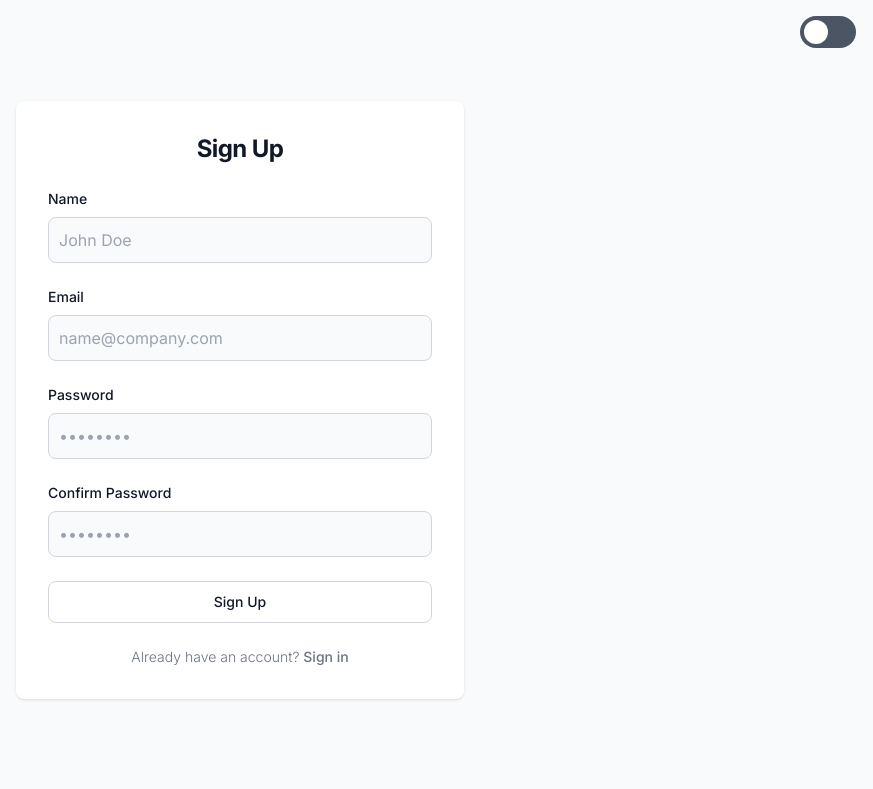
Test: Sign Up › should show error for missing email
The image size is (873, 789).
Type "Nikhil Magar" into the field named "name".
click(240, 240); type("Nikhil Magar")  # box top-left (48, 217), bottom-right (432, 263)
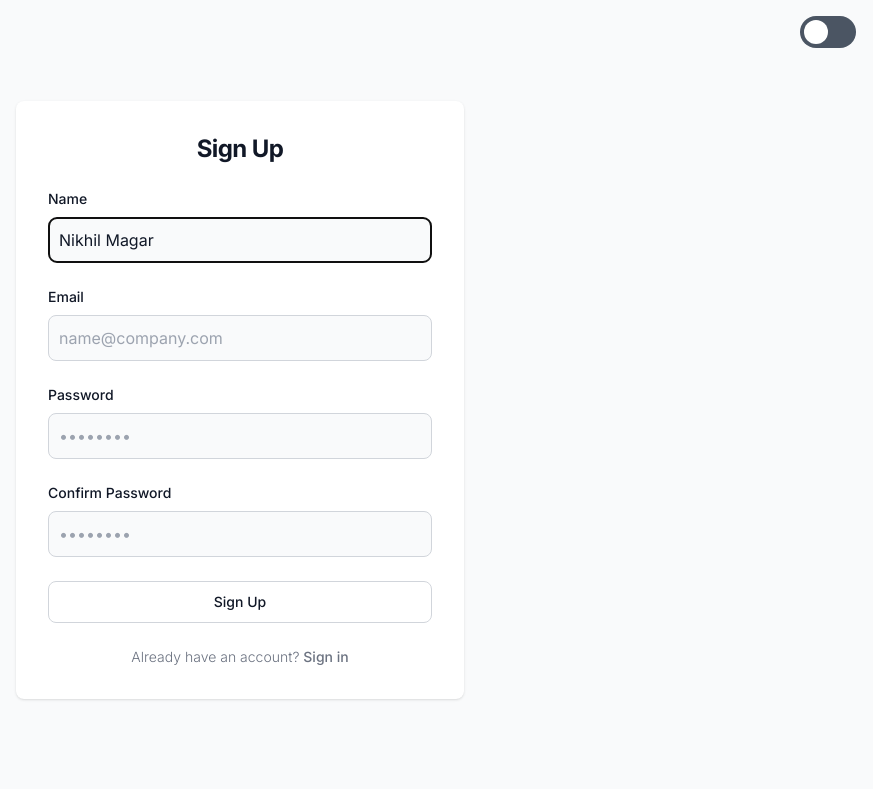
Type "Password123" into the password field named "password".
click(240, 436); type("Password123")  # box top-left (48, 413), bottom-right (432, 459)
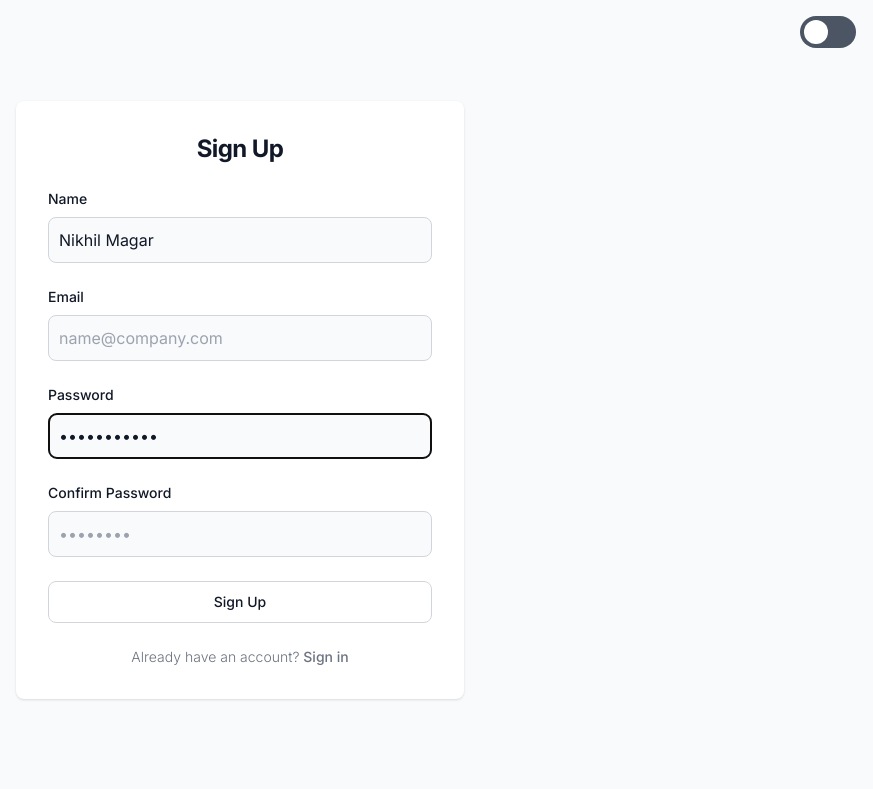
Type "Password123" into the password field named "confirm-password".
click(240, 534); type("Password123")  # box top-left (48, 511), bottom-right (432, 557)
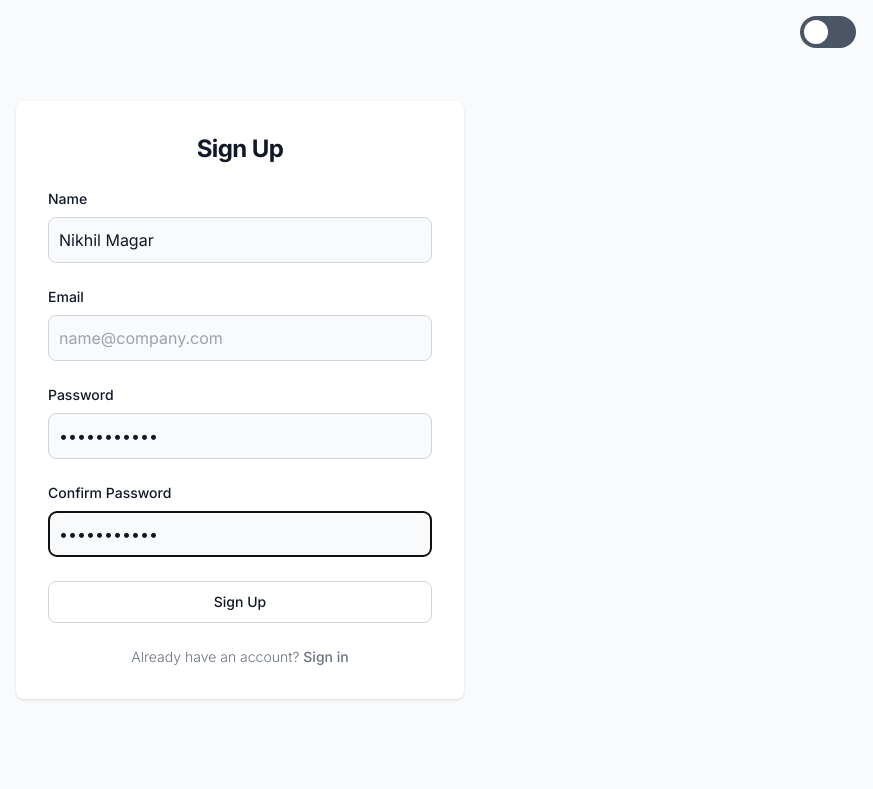
Click the submit button.
click(240, 602)  # box top-left (48, 581), bottom-right (432, 623)
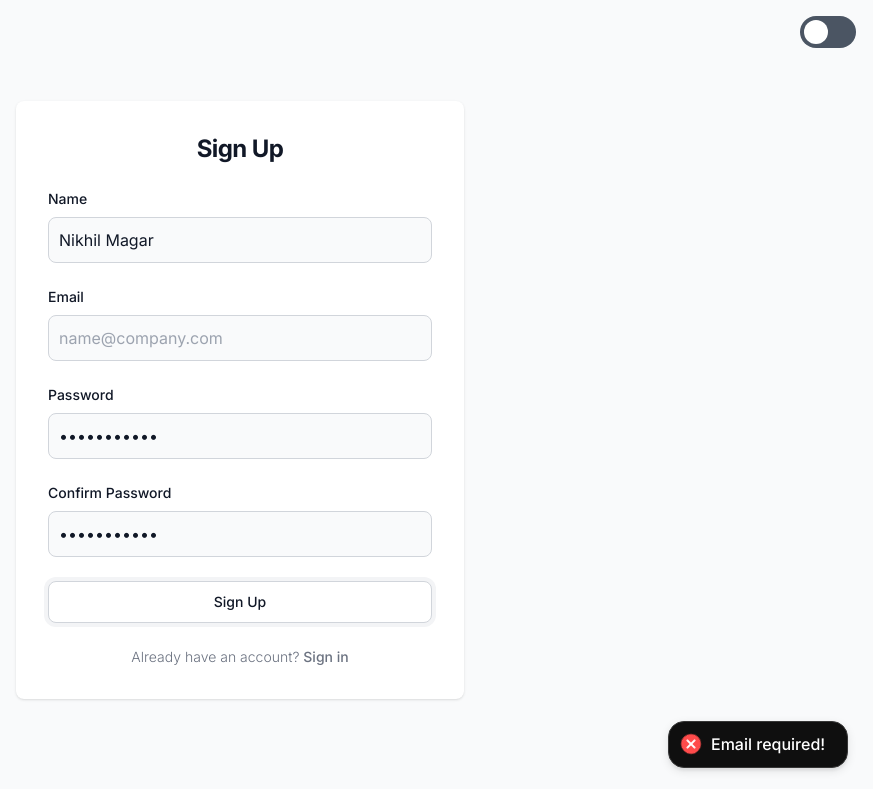
Now the text "Email required!" is shown, box top-left (711, 734), bottom-right (825, 755)
